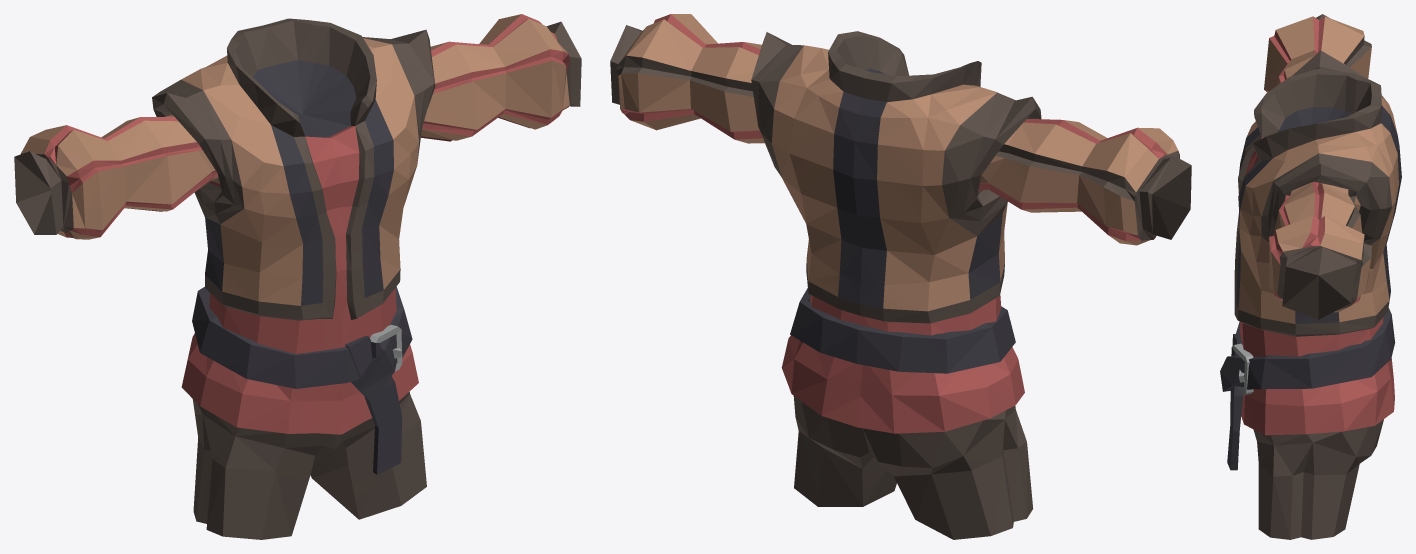
The model's file is armorPerformerDisplay.fbx.
3 renders of one model, left to right at view 1: azimuth 30°, elevation 25°; view 2: azimuth 150°, elevation 25°; view 3: azimuth 270°, elevation 25°, orthographic. The views are drawn at different scales.
Visible parts, largest first — view 1: armorPerformerDisplay; view 2: armorPerformerDisplay; view 3: armorPerformerDisplay.
Boxes of the visible parts, x1,y1,x2,y2 form: armorPerformerDisplay: [14, 14, 581, 539]; armorPerformerDisplay: [610, 14, 1191, 539]; armorPerformerDisplay: [1220, 14, 1401, 539].
Bounding box in the file's own units: 1.85 × 1.53 × 0.6125.
Materials: 1 (1 with a texture image).
